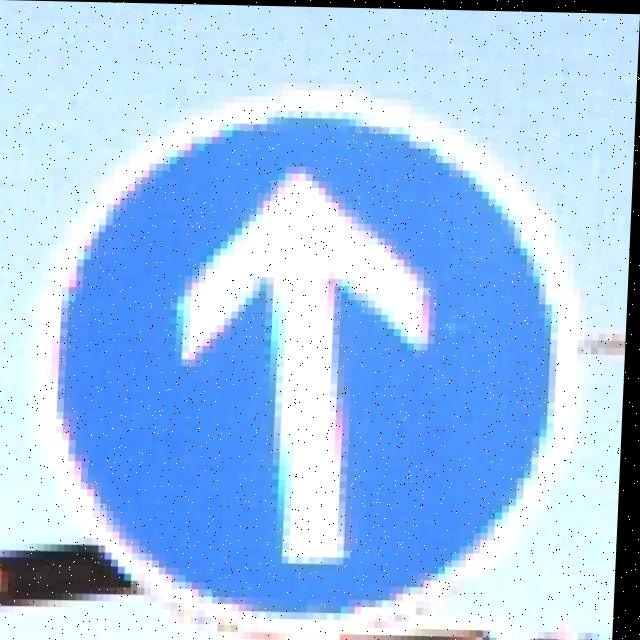compulsory_ahead: (69, 61, 553, 617)
